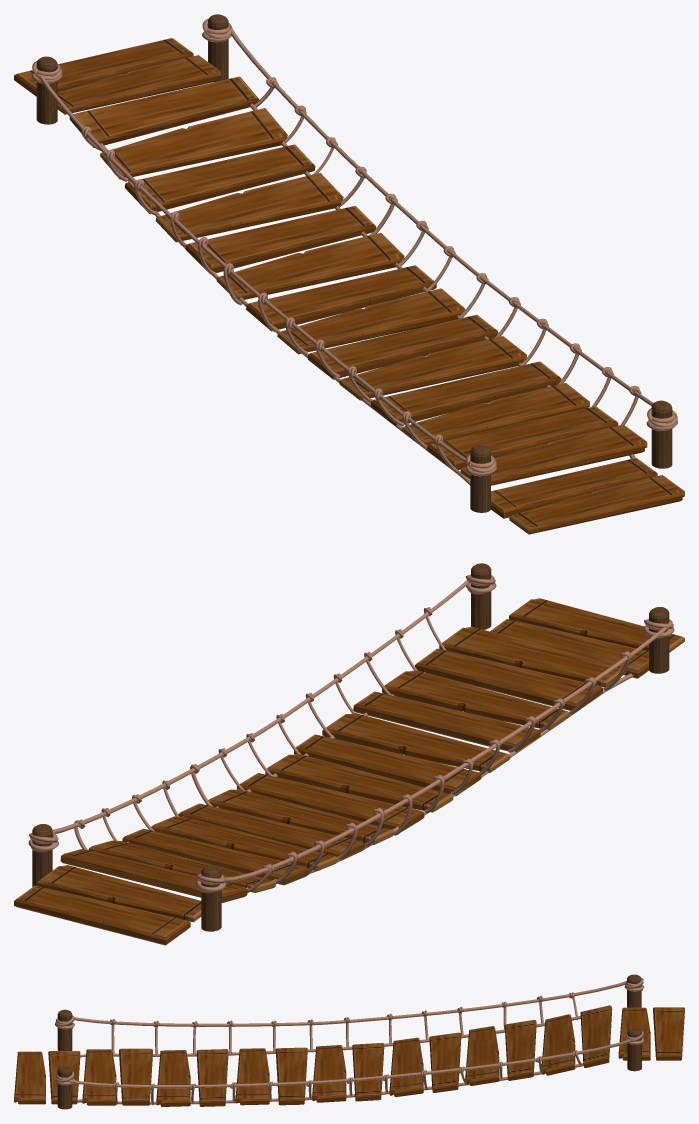
3 views of the same model, one above another, from view 1: azimuth 30°, elevation 25°; view 2: azimuth 150°, elevation 25°; view 3: azimuth 270°, elevation 25° (orthographic). The views are drawn at different scales.
Visible parts, largest first — view 1: 橋1; view 2: 橋1; view 3: 橋1.
Boxes of the visible parts, <box> form: 橋1: <box>14,14,684,534</box>; 橋1: <box>14,563,684,945</box>; 橋1: <box>14,974,684,1109</box>.
Bounding box in the file's own units: 721 × 405 × 3065.
3 materials, 2 textured.
